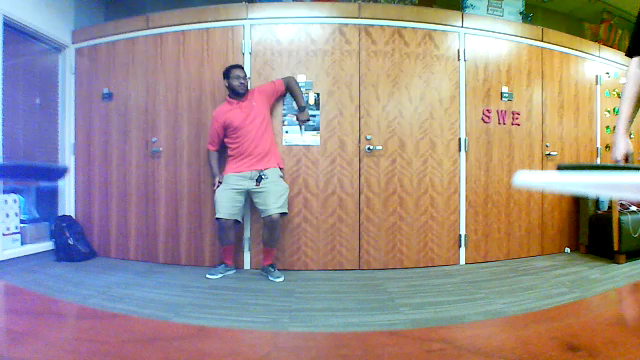down: (287, 98, 318, 139)
